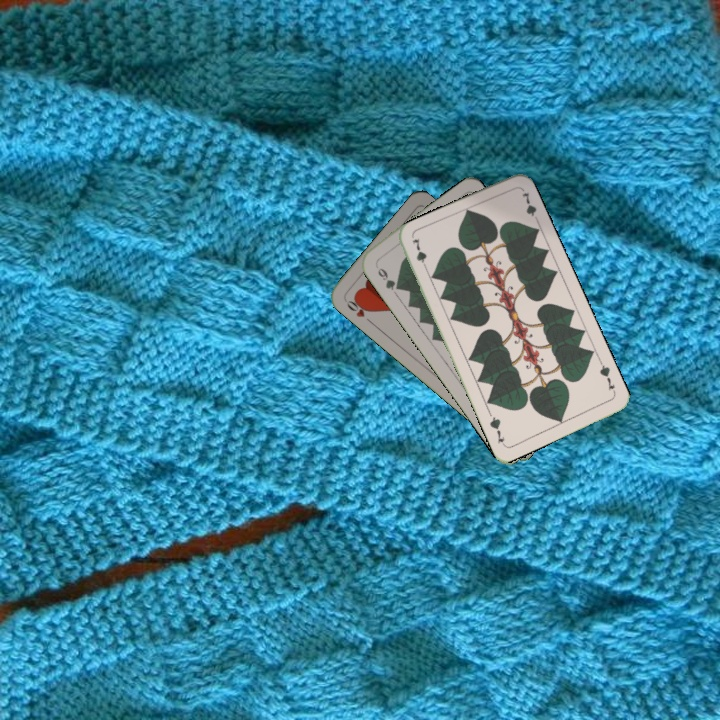G7: (408, 234, 431, 274), (595, 358, 618, 397)
G9: (373, 264, 403, 293)
HO: (341, 294, 375, 326)
